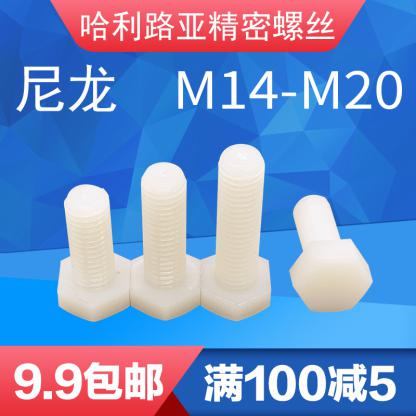FOD: (201, 141, 272, 321), (126, 160, 202, 322), (286, 192, 372, 313), (55, 182, 128, 324)
